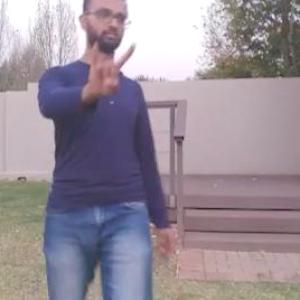takeoff-hand: (82, 26, 136, 100)
